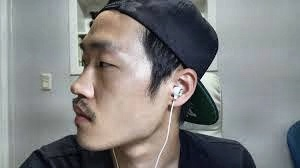earphone: (169, 67, 198, 106)
